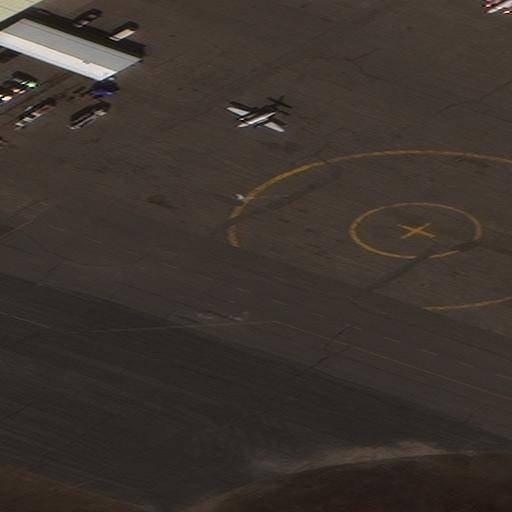Small Civil Transport: (225, 108, 280, 132), (474, 0, 512, 15)
